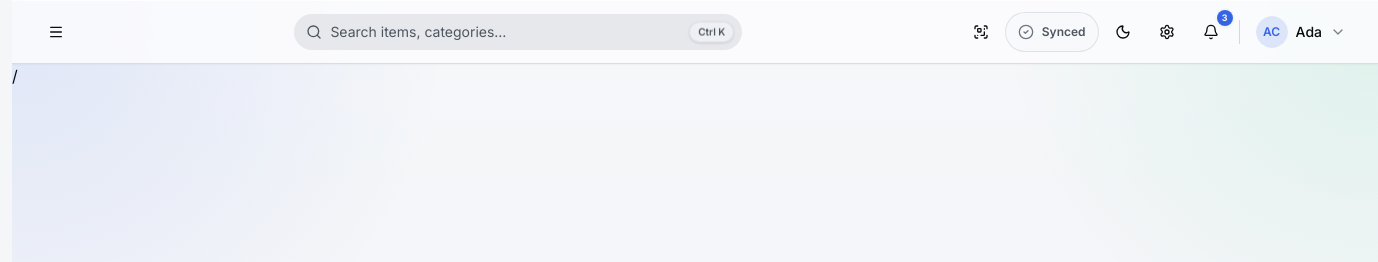
Test: topbar navigation & search › matches custom fields accent-insensitively and opens the highlighted result with Enter
The image size is (1378, 262).
Type "HERBERT" into the dropdown named "search the collection".
click(518, 32); type("HERBERT")  # box [294,14,742,50]
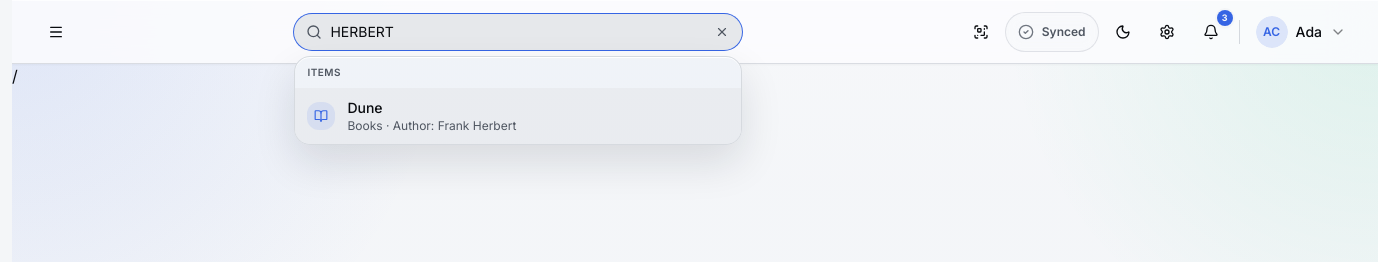
Check: the text "Dune" is shown, box [347,98,383,116]
Check: the text "Books · Author: Frank Herbert" is shown, box [347,118,516,132]
Press Enter
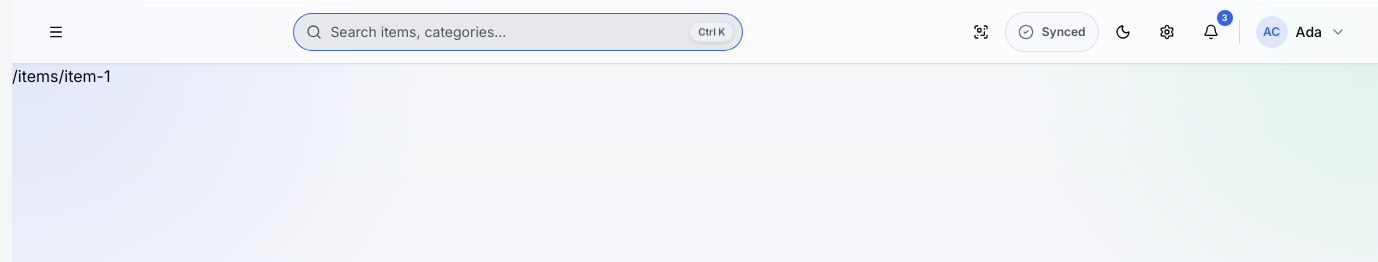
Check: the text with test id "location" reads "/items/item-1", box [12,66,110,86]
